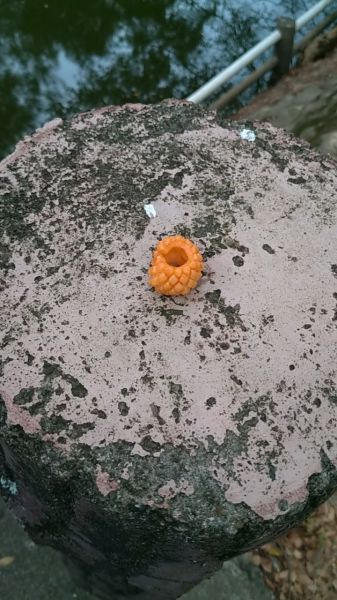eggs: (144, 233, 209, 300)
